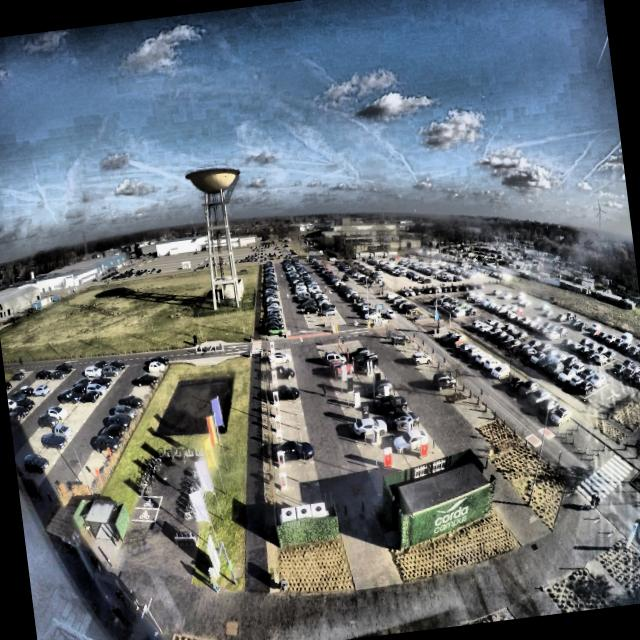cabinet: (282, 502, 324, 518)
car: (268, 437, 312, 463), (266, 382, 298, 401), (268, 347, 292, 364)
parking: (274, 462, 317, 488), (276, 484, 321, 508), (272, 444, 312, 466), (271, 427, 309, 448), (270, 412, 306, 429), (269, 400, 302, 414), (268, 368, 296, 382), (268, 389, 298, 401), (268, 380, 296, 392), (268, 356, 292, 370), (268, 348, 290, 358)
